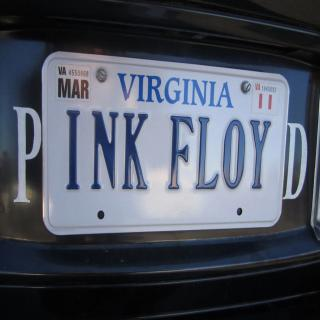license: (43, 50, 292, 237)
